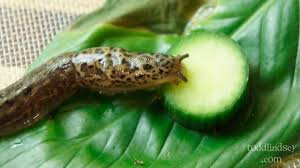slug: (1, 48, 187, 136)
